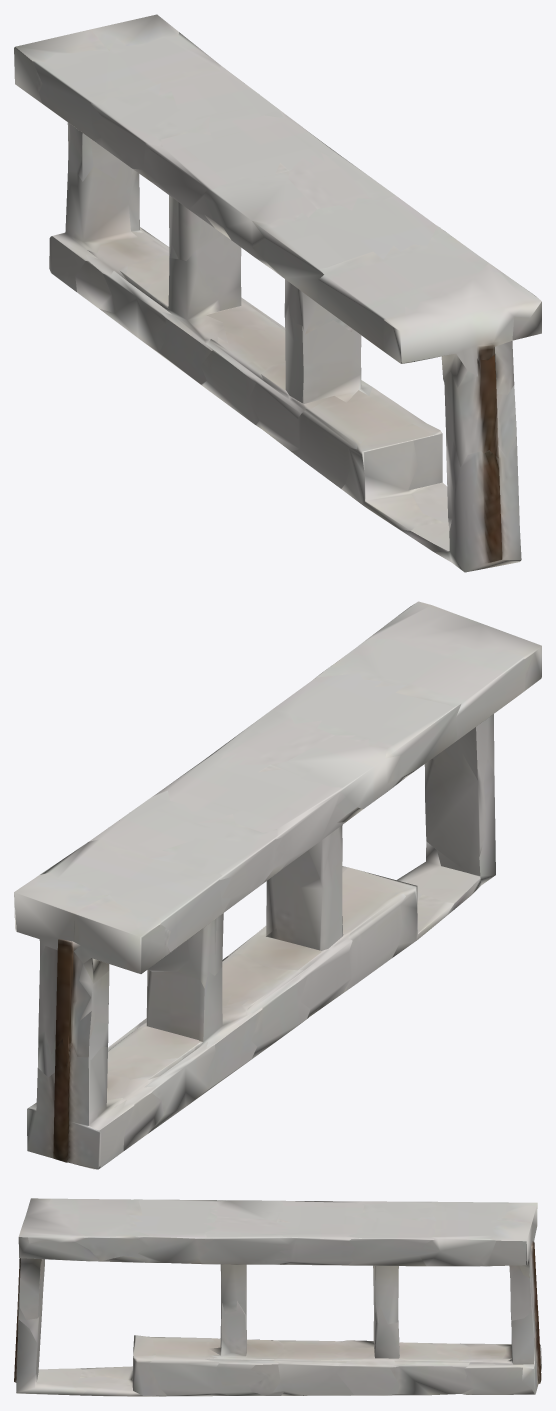
The model's file is gerbang_depan_bicc_lod2.glb.
The picture shows the model from 3 angles, top to bottom: view 1: azimuth 30°, elevation 25°; view 2: azimuth 150°, elevation 25°; view 3: azimuth 270°, elevation 25°; orthographic projection. The views are drawn at different scales.
Parts seen in each view (by area): view 1: tripo_node_c6df91ce-5374-40ee-8e98-355a507f9b06; view 2: tripo_node_c6df91ce-5374-40ee-8e98-355a507f9b06; view 3: tripo_node_c6df91ce-5374-40ee-8e98-355a507f9b06.
Boxes of the visible parts, x1=… form: tripo_node_c6df91ce-5374-40ee-8e98-355a507f9b06: x1=14, y1=14, x2=541, y2=572; tripo_node_c6df91ce-5374-40ee-8e98-355a507f9b06: x1=14, y1=601, x2=541, y2=1169; tripo_node_c6df91ce-5374-40ee-8e98-355a507f9b06: x1=14, y1=1198, x2=541, y2=1396.
Bounding box in the file's own units: 0.1984 × 0.3441 × 1.
Materials: 1 (1 with a texture image).
